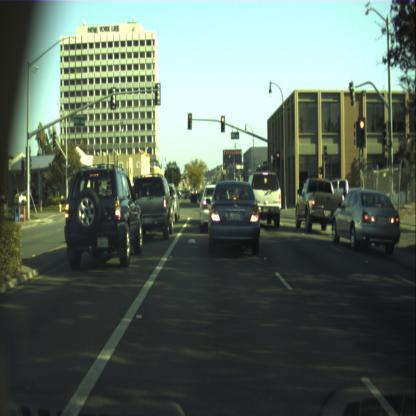Red: (358, 116, 365, 146), (276, 151, 280, 166), (221, 115, 224, 131)
RedLeft: (188, 112, 192, 129)
